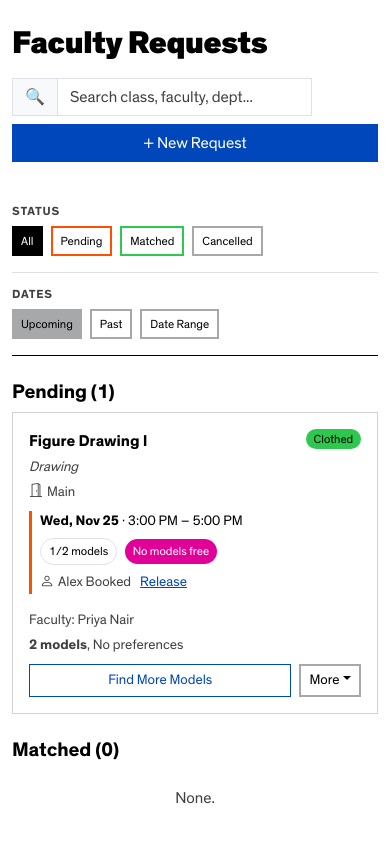
Test case: AllRequests (admin requests page) › on phone cards, keeps the main button and tucks the rest into a More menu
Later steps or results of the test are not shown.
Expected: the button "Find More Models" is shown, [29,664,291,697]
Expected: the button "Cancel Class" is not shown
Click the button with aria-label "More actions for Figure Drawing I" at (330, 680), box [299,664,361,697]
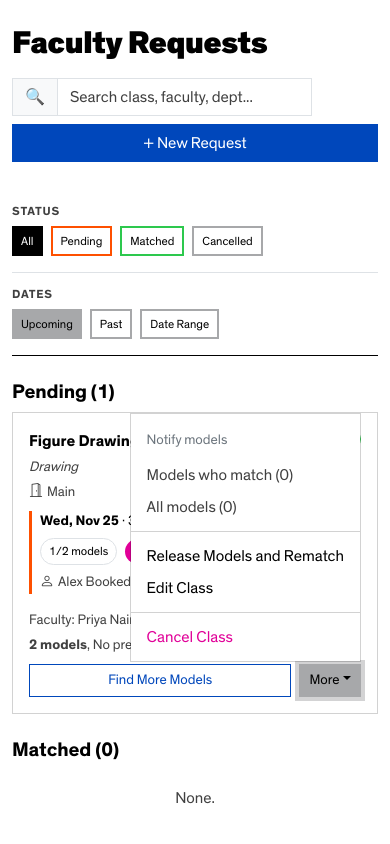
Now the button "Release Models and Rematch" is shown, box [131,540,360,572]
Now the button "Edit Class" is shown, box [131,572,360,604]
